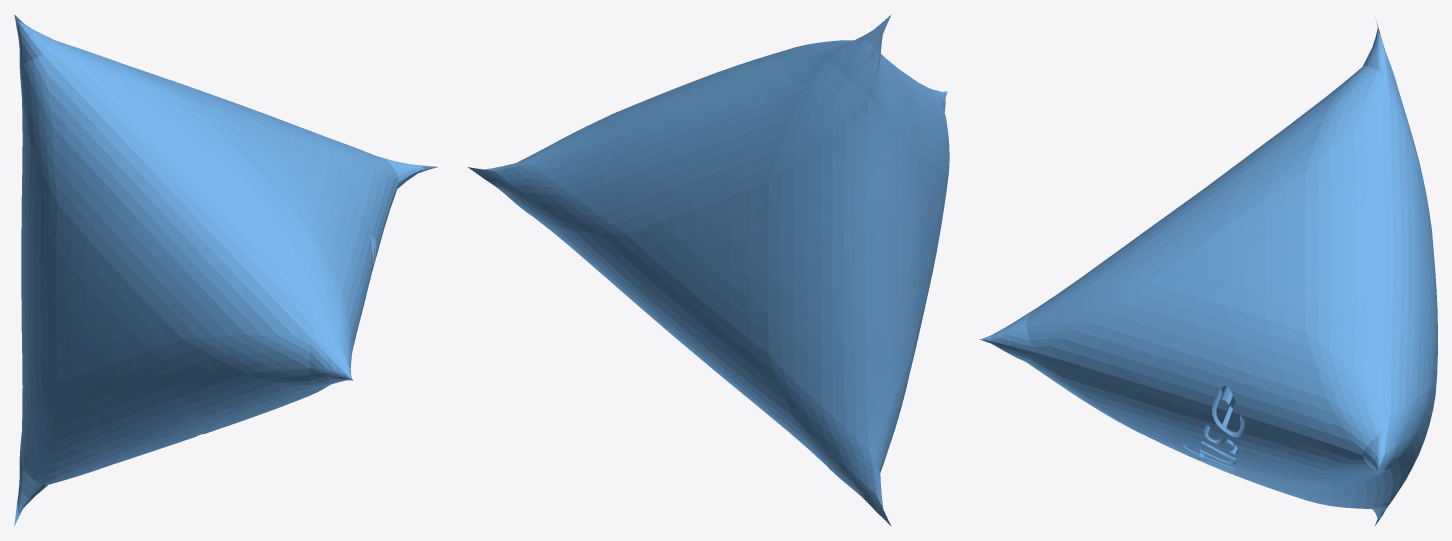
Rendered from confusion.obj.
The picture shows the model from 3 angles, left to right: view 1: azimuth 30°, elevation 25°; view 2: azimuth 150°, elevation 25°; view 3: azimuth 270°, elevation 25°; orthographic projection.
Parts seen in each view (by area): view 1: Object.1; view 2: Object.1; view 3: Object.1.
Part boxes in pixels (bbox=[...]): Object.1: bbox=[14, 14, 437, 525]; Object.1: bbox=[468, 14, 949, 526]; Object.1: bbox=[978, 21, 1437, 525].
Size of the model in its own units: 41.98 by 48.47 by 39.38.
